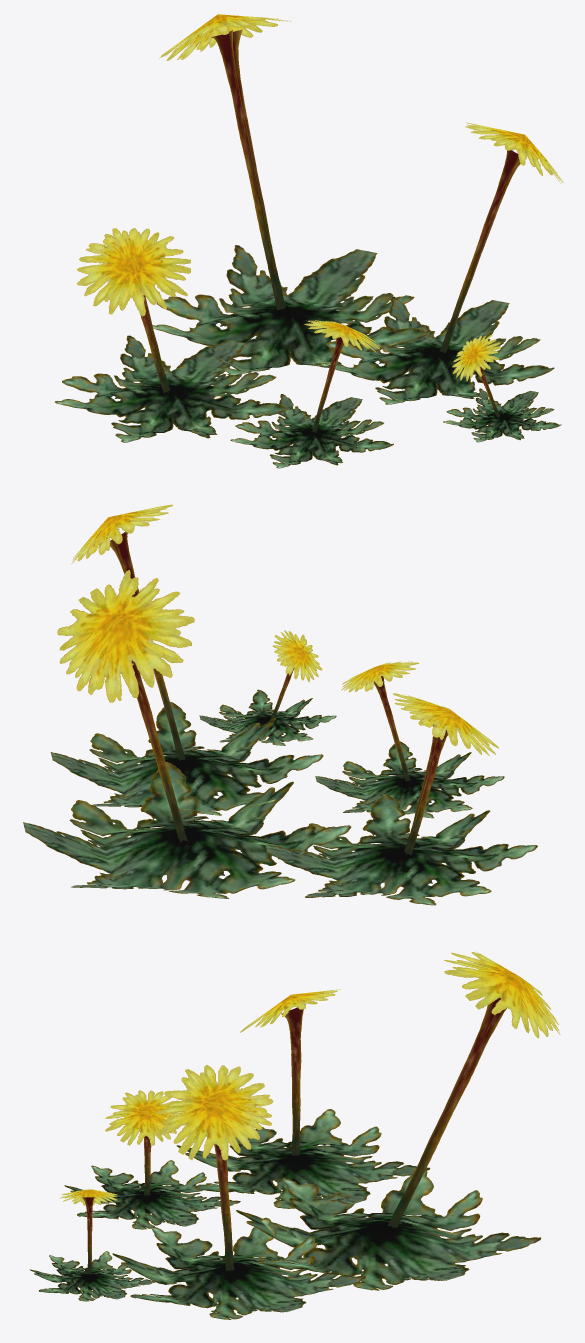
File: flw_g01_yall.glb
3 views of the same model, one above another, from view 1: azimuth 30°, elevation 25°; view 2: azimuth 150°, elevation 25°; view 3: azimuth 270°, elevation 25° (orthographic). The views are drawn at different scales.
Visible parts, largest first — view 1: flw_g01_yall; view 2: flw_g01_yall; view 3: flw_g01_yall.
Boxes of the visible parts, x1,y1,x2,y2 form: flw_g01_yall: (55, 14, 563, 468); flw_g01_yall: (23, 504, 537, 905); flw_g01_yall: (30, 951, 560, 1319).
Bounding box in the file's own units: 0.9516 × 0.5593 × 0.9518.
1 material, 1 textured.
